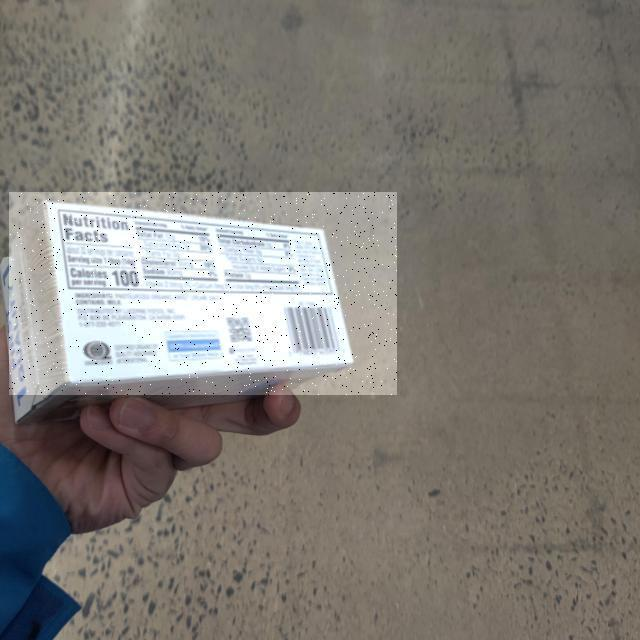Butter: (9, 192, 397, 395)
